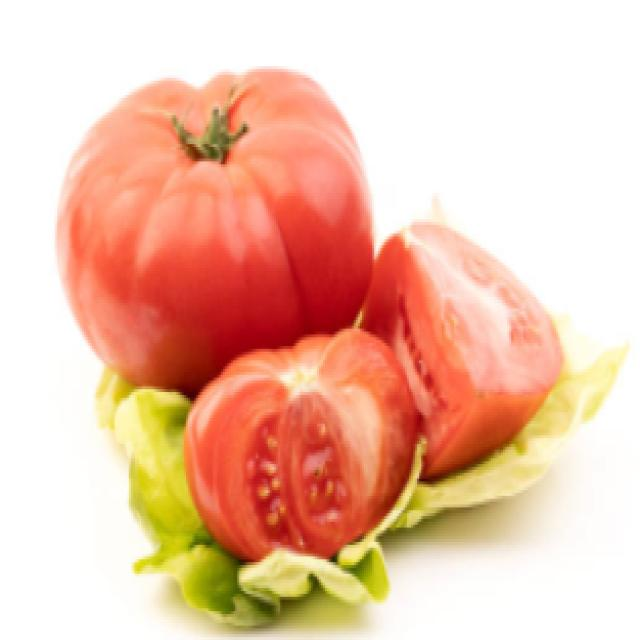Tomato: (200, 329, 414, 568), (362, 217, 561, 465)
